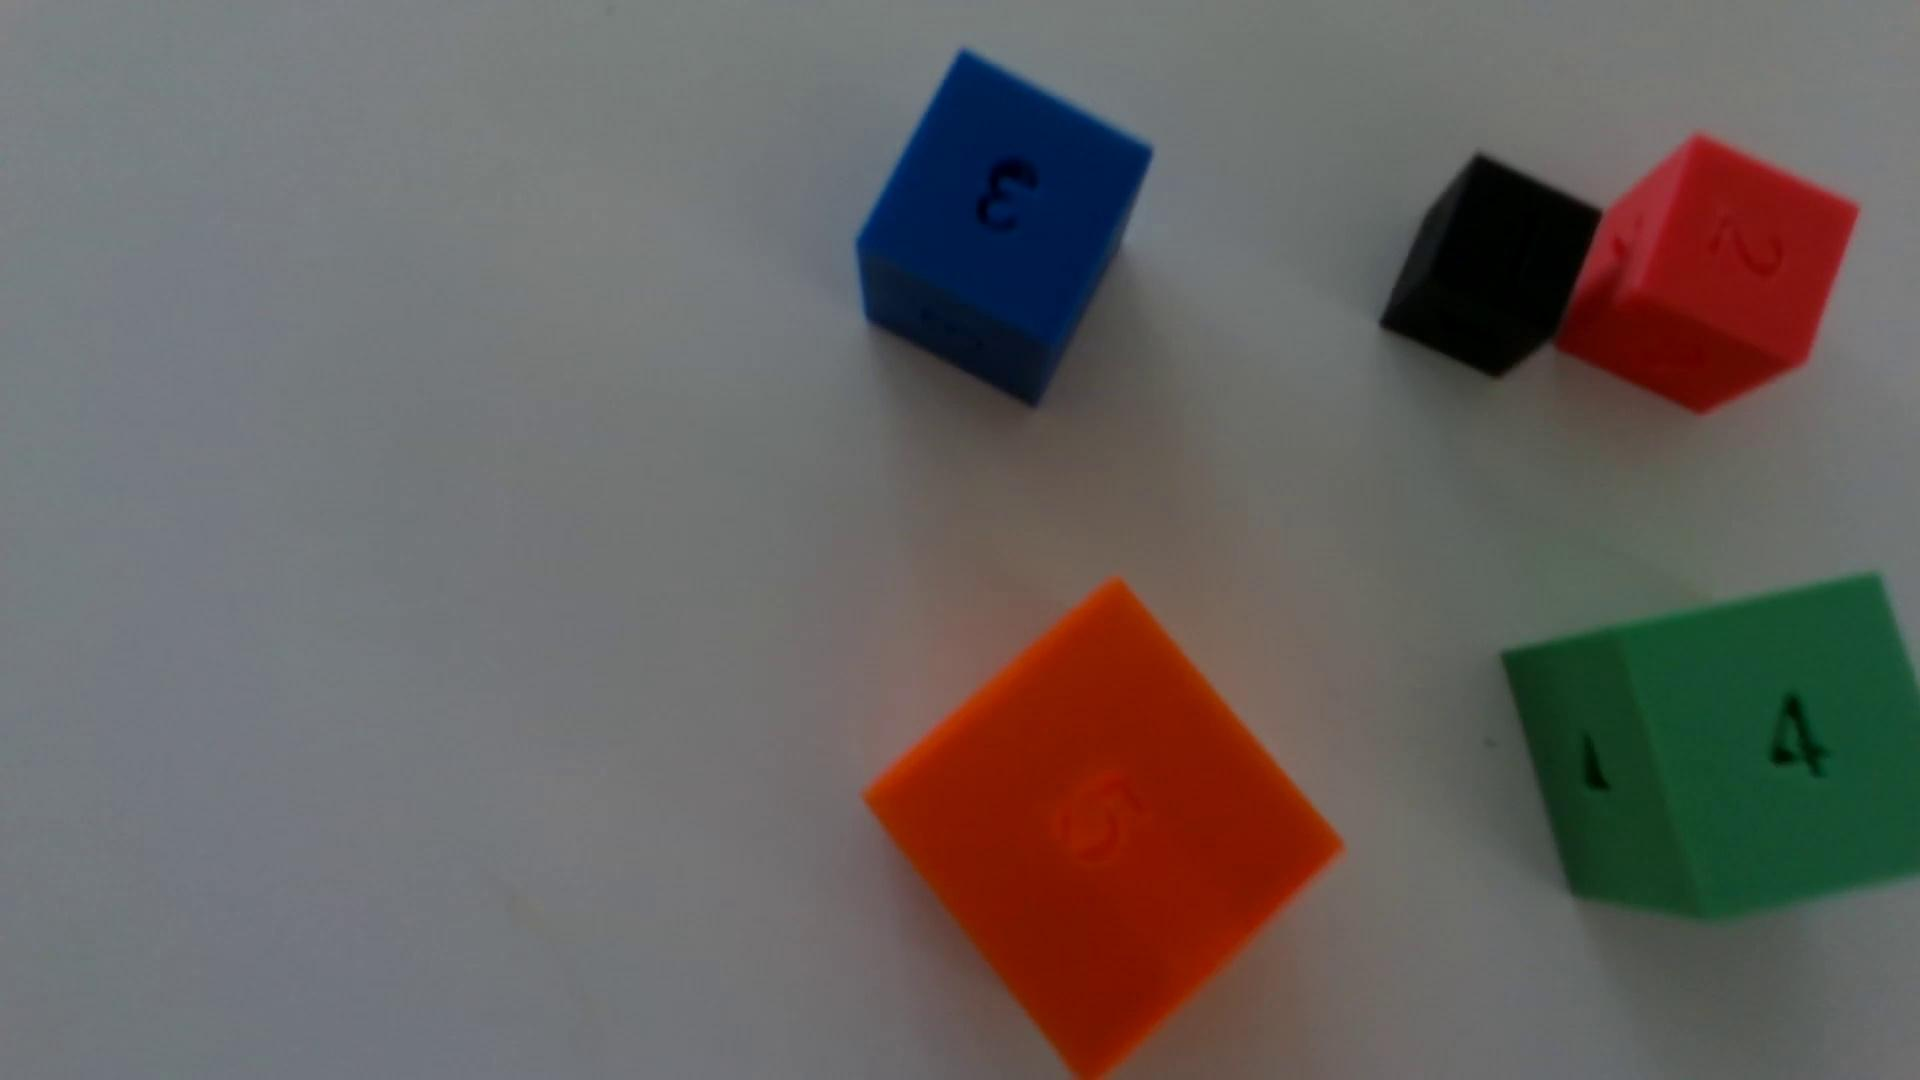black: (1381, 156, 1601, 378)
blue: (856, 53, 1153, 405)
green: (1503, 576, 1920, 920)
orange: (866, 582, 1340, 1080)
red: (1557, 136, 1858, 414)
